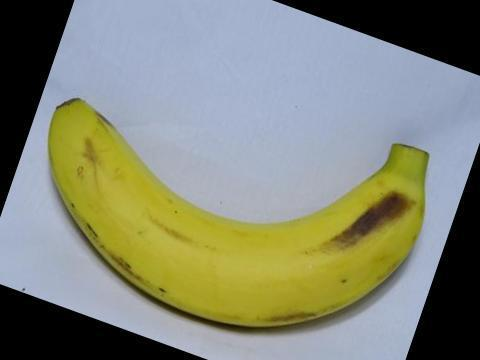freshripe: (36, 78, 449, 342)
